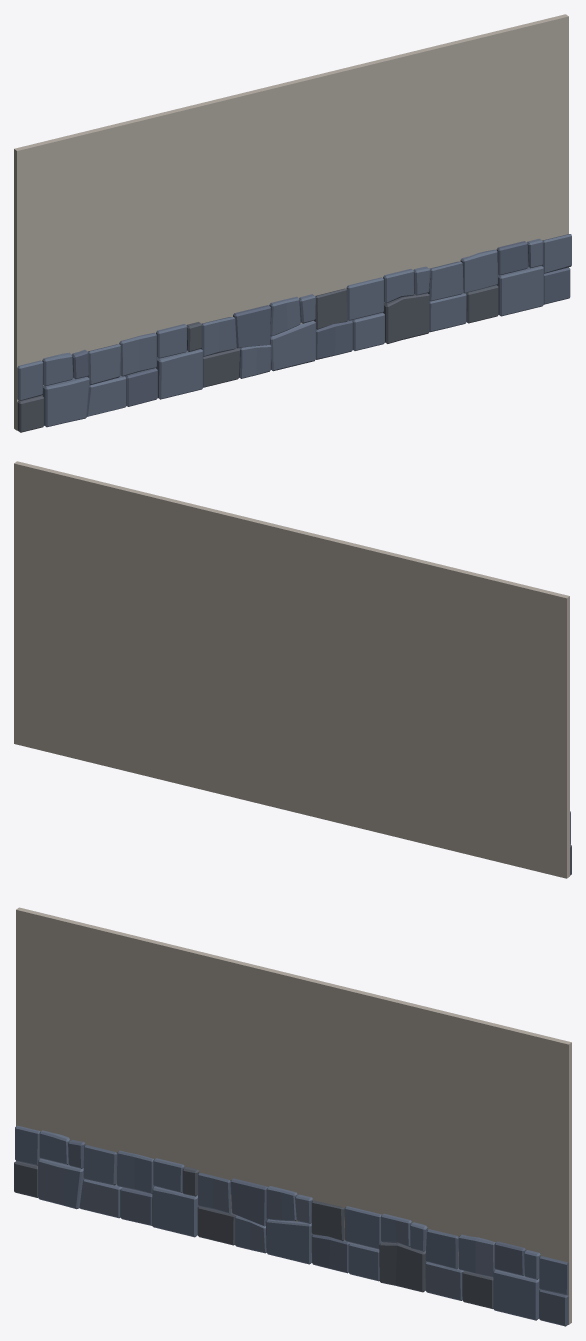
The model's file is Wall_09.fbx.
The picture shows the model from 3 angles, top to bottom: view 1: azimuth 30°, elevation 25°; view 2: azimuth 150°, elevation 25°; view 3: azimuth 330°, elevation 25°; orthographic projection.
Parts seen in each view (by area): view 1: Wall_09; view 2: Wall_09; view 3: Wall_09.
Part boxes in pixels (x1,y1,x2,y2): Wall_09: (14,14,571,432); Wall_09: (14,461,571,878); Wall_09: (14,907,571,1326).
Bounding box in the file's own units: 575 × 279 × 13.85.
